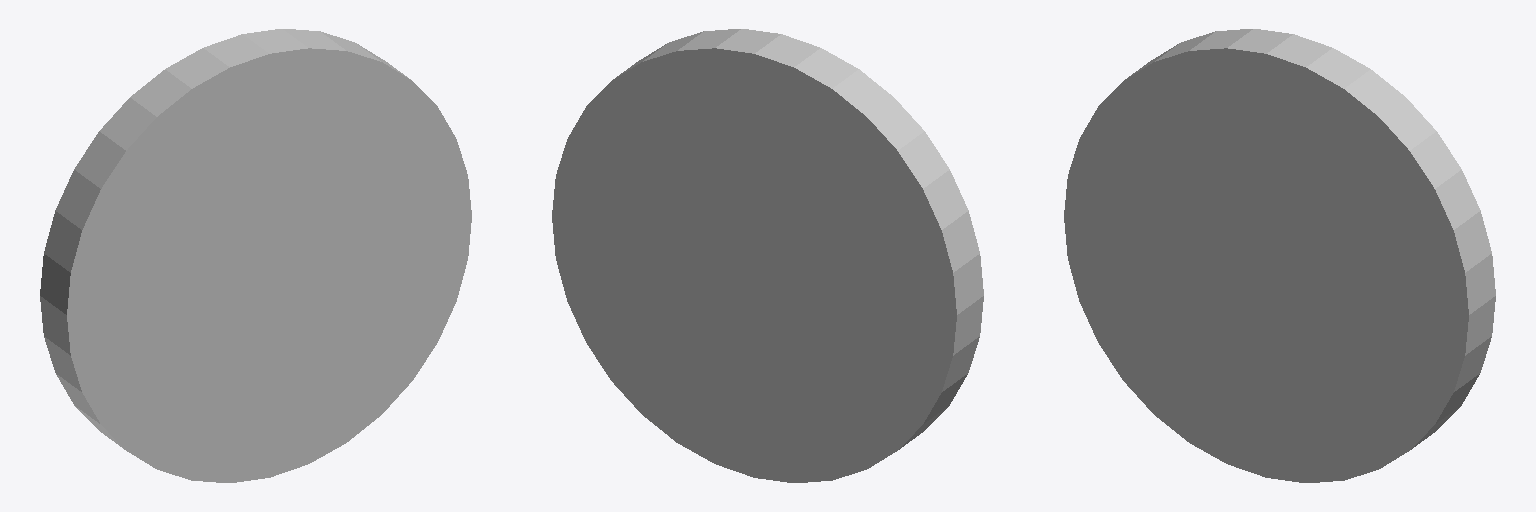
Rendered from car_wheel.obj.
3 renders of one model, left to right at view 1: azimuth 30°, elevation 25°; view 2: azimuth 150°, elevation 25°; view 3: azimuth 330°, elevation 25°, orthographic.
Visible parts, largest first — view 1: Wheel; view 2: Wheel; view 3: Wheel.
Part boxes in pixels (x1,y1,x2,y2): Wheel: (40, 29, 471, 482); Wheel: (552, 29, 983, 482); Wheel: (1064, 29, 1495, 482).
Bounding box in the file's own units: 2 × 2 × 0.2312.